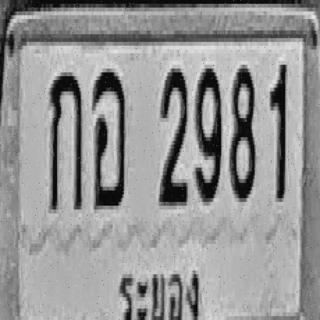A01: (49, 68, 82, 210)
A43: (92, 68, 125, 210)
N01: (269, 63, 286, 200)
N02: (159, 65, 188, 206)
N08: (229, 65, 255, 202)
N09: (195, 65, 221, 202)
P53: (116, 255, 204, 320)
